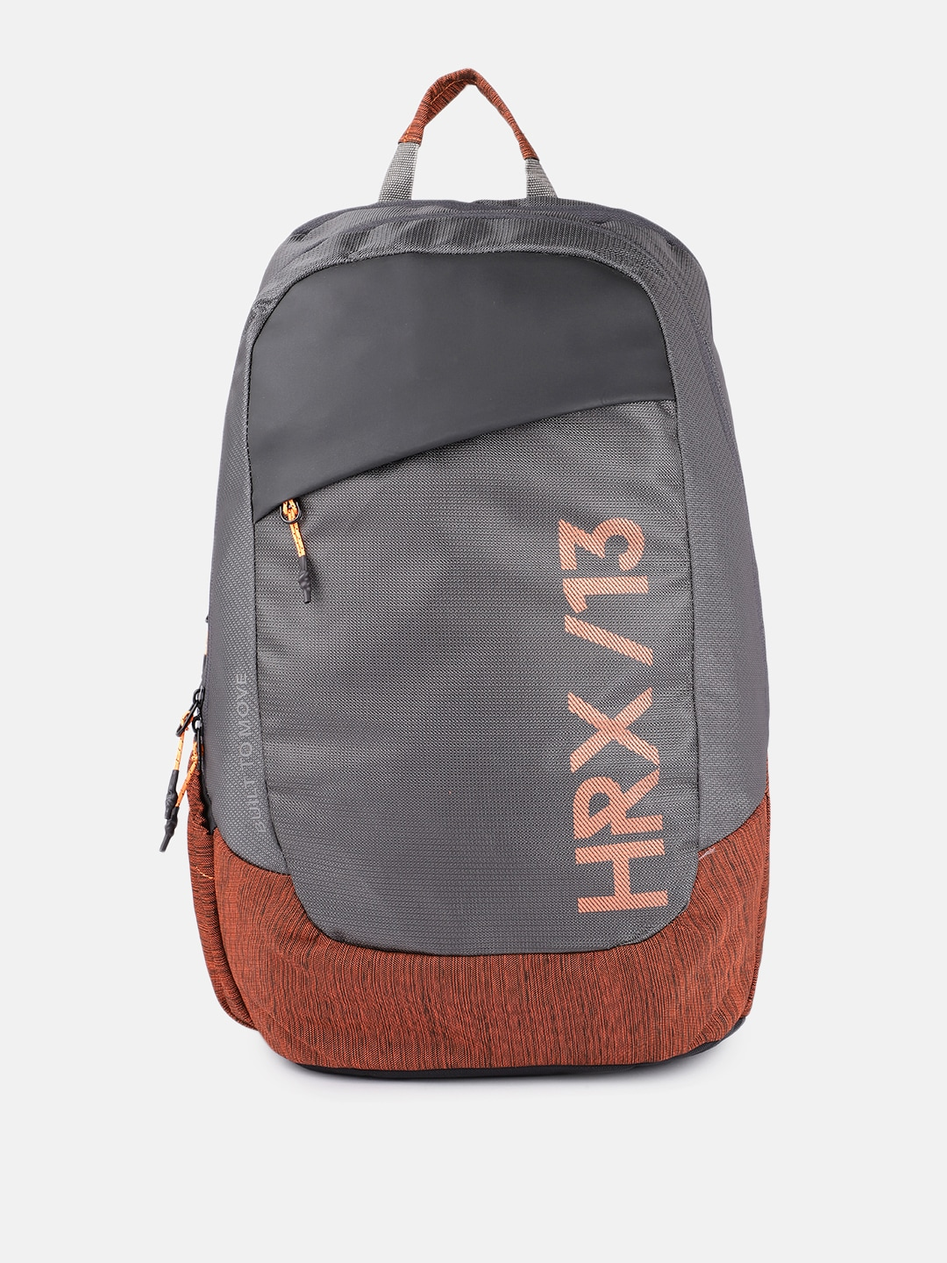backpack: (162, 67, 773, 1077)
